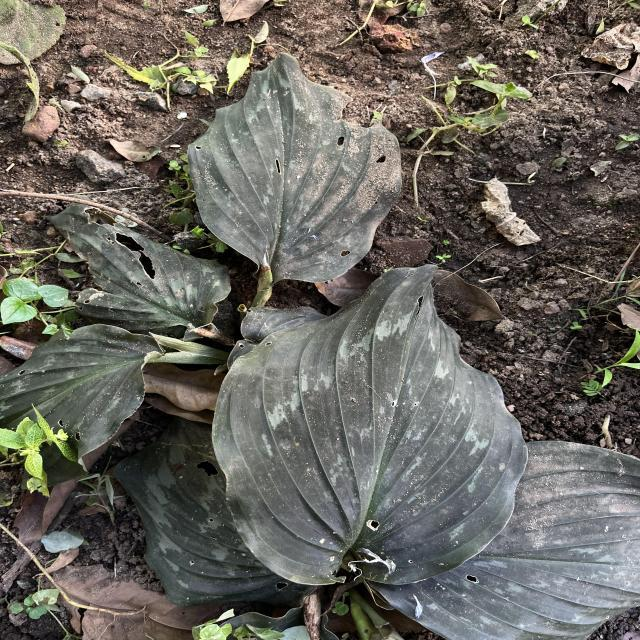Kaempferia galanga linn: (207, 260, 534, 590), (184, 50, 406, 286)
